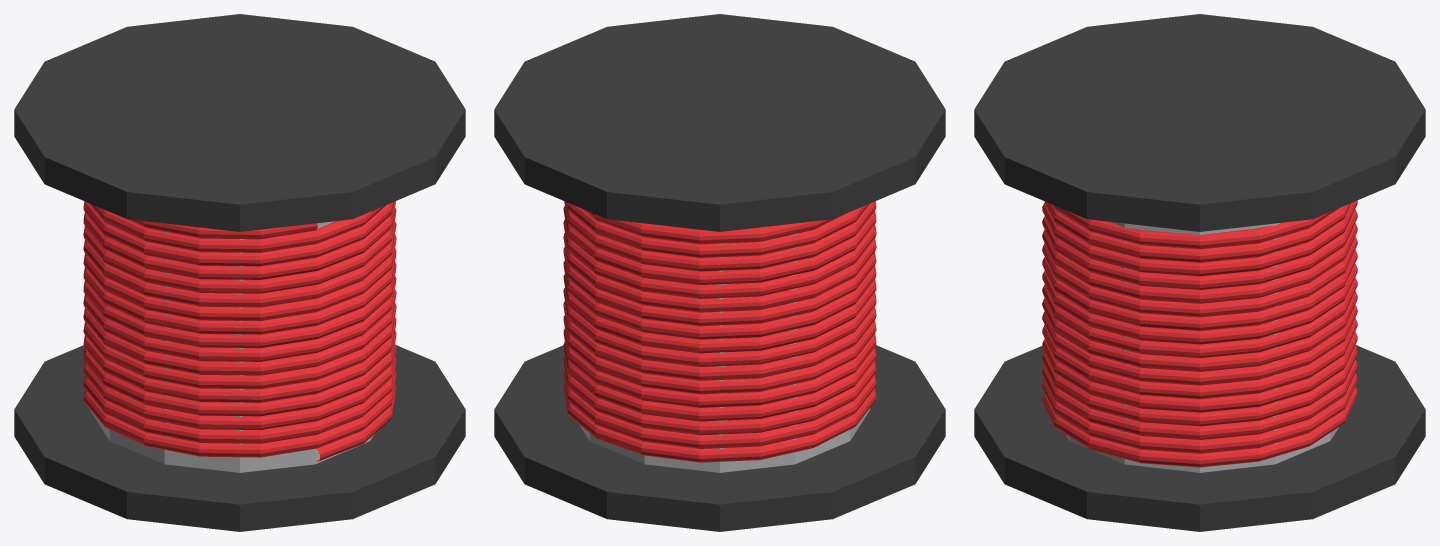
File: cableroll.glb
The picture shows the model from 3 angles, left to right: view 1: azimuth 30°, elevation 25°; view 2: azimuth 150°, elevation 25°; view 3: azimuth 270°, elevation 25°; orthographic projection.
Parts seen in each view (by area): view 1: Cylinder, Circle.001; view 2: Cylinder, Circle.001; view 3: Cylinder, Circle.001.
Part boxes in pixels (x1=…): Cylinder: x1=14, y1=14, x2=465, y2=531; Circle.001: x1=83, y1=201, x2=396, y2=461; Cylinder: x1=494, y1=14, x2=945, y2=531; Circle.001: x1=563, y1=201, x2=876, y2=462; Cylinder: x1=974, y1=14, x2=1425, y2=531; Circle.001: x1=1042, y1=200, x2=1357, y2=467.
Size of the model in its own units: 3 by 2.4 by 3.
